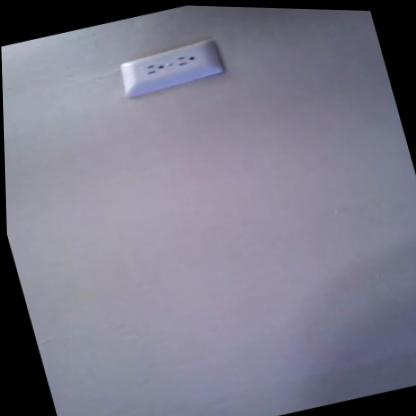OUTLET: (116, 32, 228, 102)
